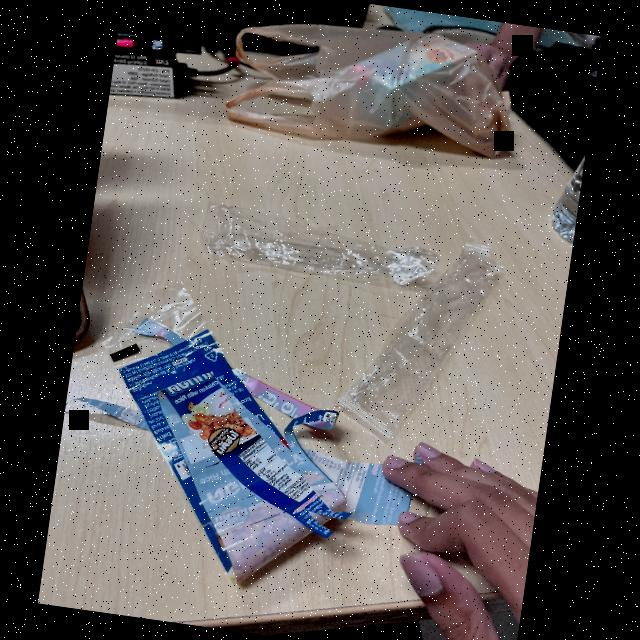scrap_plastic: (74, 279, 370, 592), (340, 219, 525, 446), (187, 199, 446, 295)
